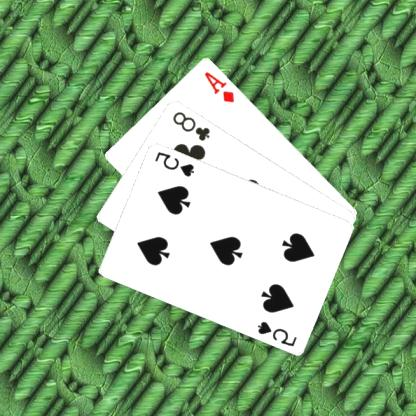5S: (153, 148, 197, 178), (256, 318, 300, 347)
8C: (171, 108, 214, 143)
AD: (203, 68, 238, 104)
